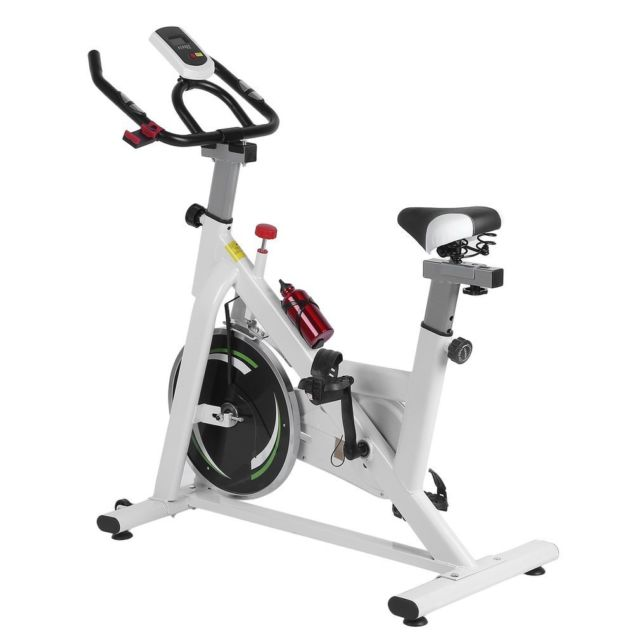gym_bike: (80, 39, 566, 633)
